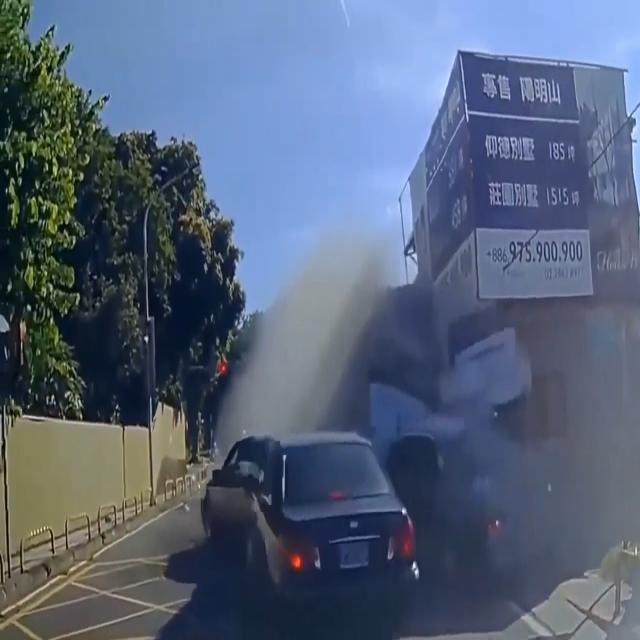accident: (191, 384, 431, 619), (393, 309, 584, 583)
